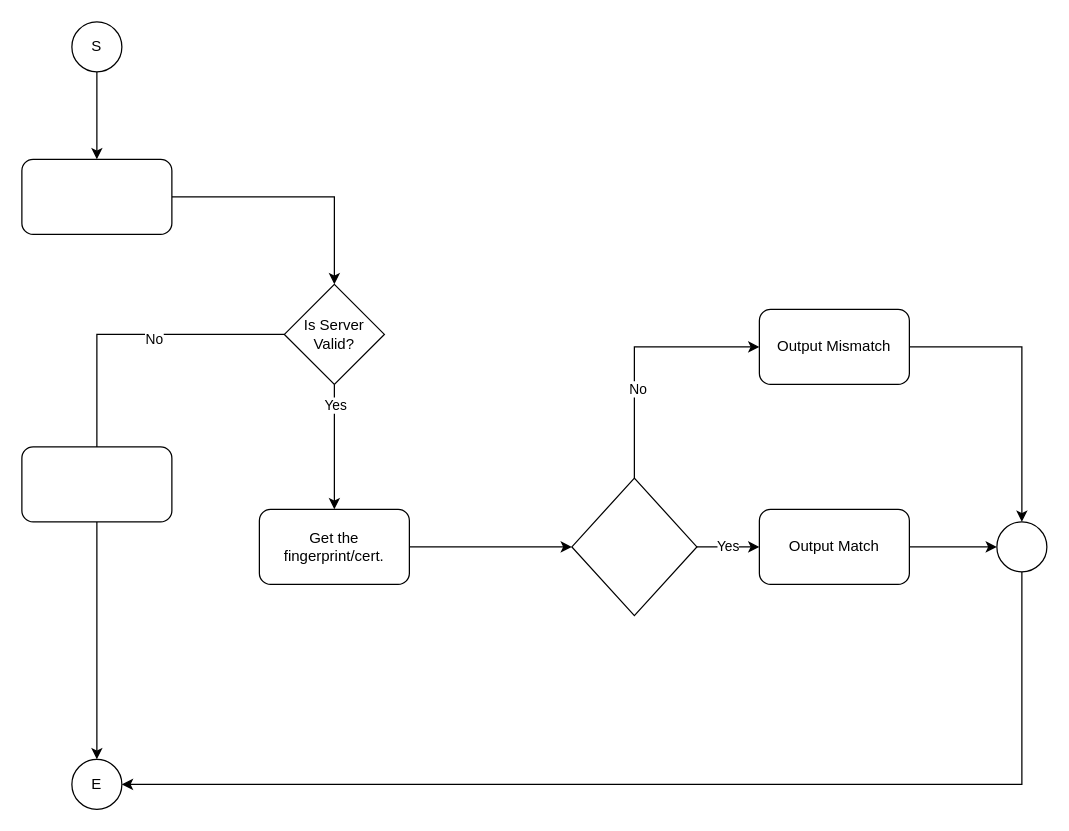
The diagram is 1069 pixels wide and 831 high, and some of its shapes have lost their labels. The box of each missing label's shape, as (x1, y1, x2, y2) in pixels:
Connect to Server: (21, 158, 172, 234)
Is Fingerprint Valid?: (571, 477, 697, 616)
Print Error Message: (21, 446, 172, 522)
